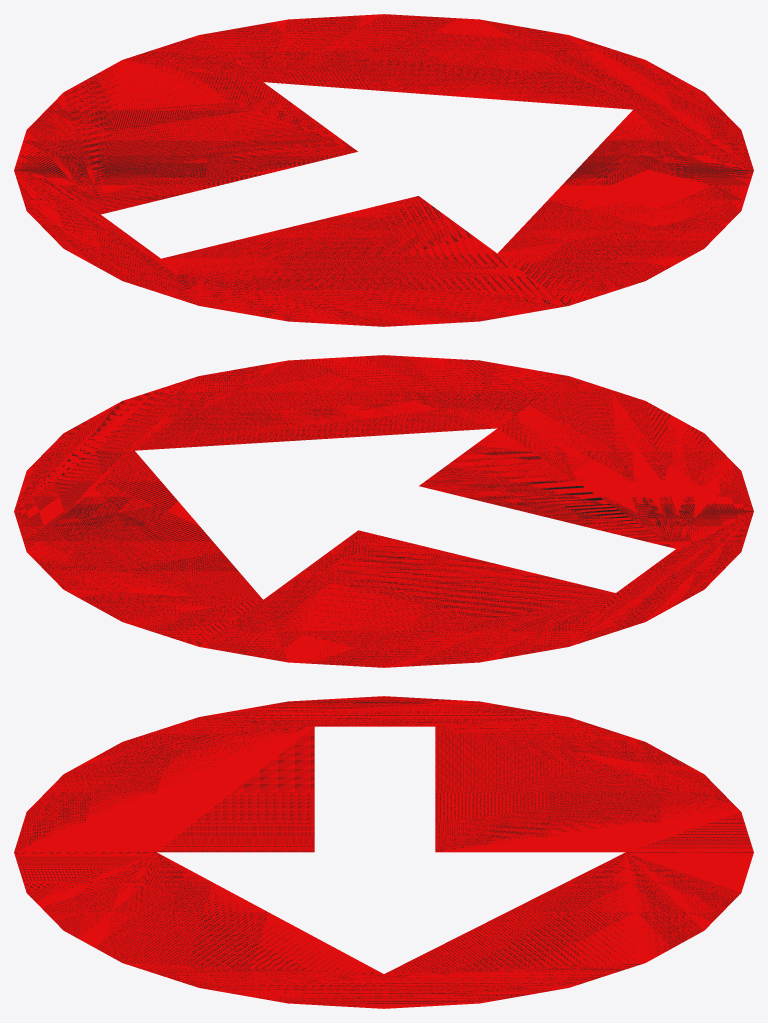
Rendered from original-60.obj.
3 views of the same model, one above another, from view 1: azimuth 30°, elevation 25°; view 2: azimuth 150°, elevation 25°; view 3: azimuth 270°, elevation 25° (orthographic).
Visible parts, largest first — view 1: mesh44/mesh44-geometry/material_2#mesh44-geometry; view 2: mesh44/mesh44-geometry/material_2#mesh44-geometry; view 3: mesh44/mesh44-geometry/material_2#mesh44-geometry.
Boxes of the visible parts, <box> form: mesh44/mesh44-geometry/material_2#mesh44-geometry: <box>14,14,753,326</box>; mesh44/mesh44-geometry/material_2#mesh44-geometry: <box>14,355,753,667</box>; mesh44/mesh44-geometry/material_2#mesh44-geometry: <box>14,696,753,1008</box>.
Size of the model in its own units: 0.0351 by 0 by 0.0351.
